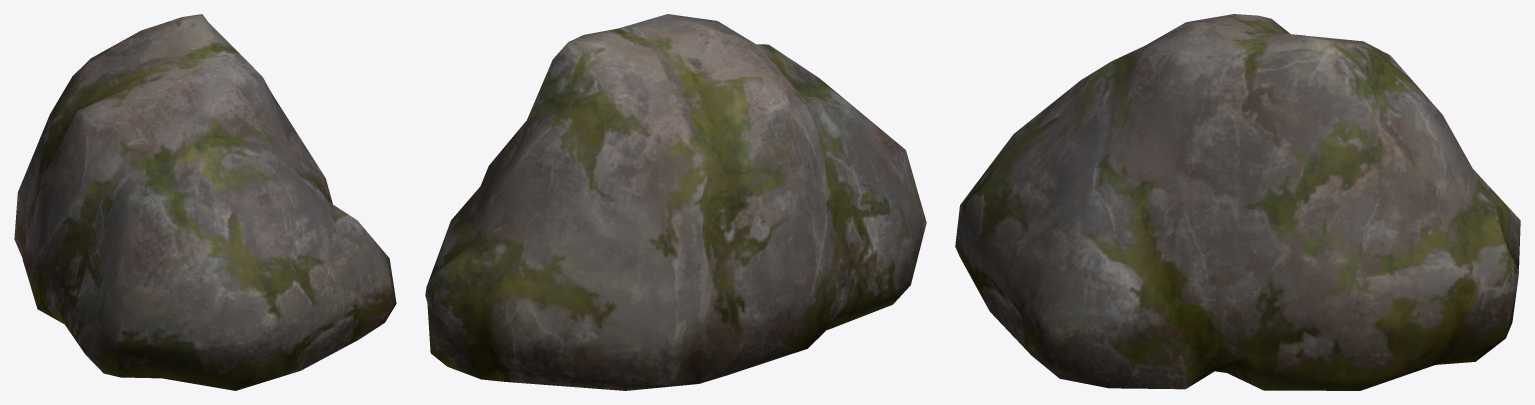
The model's file is Rock1.fbx.
3 views of the same model, side by side, from view 1: azimuth 30°, elevation 25°; view 2: azimuth 150°, elevation 25°; view 3: azimuth 270°, elevation 25° (orthographic). The views are drawn at different scales.
Parts seen in each view (by area): view 1: SM_d_109_Rock_01a; view 2: SM_d_109_Rock_01a; view 3: SM_d_109_Rock_01a.
Part boxes in pixels (left/top/right/bottom): SM_d_109_Rock_01a: left=14, top=14, right=396, bottom=390; SM_d_109_Rock_01a: left=425, top=14, right=926, bottom=390; SM_d_109_Rock_01a: left=955, top=14, right=1520, bottom=390.
Bounding box in the file's own units: 580 × 444 × 781.
